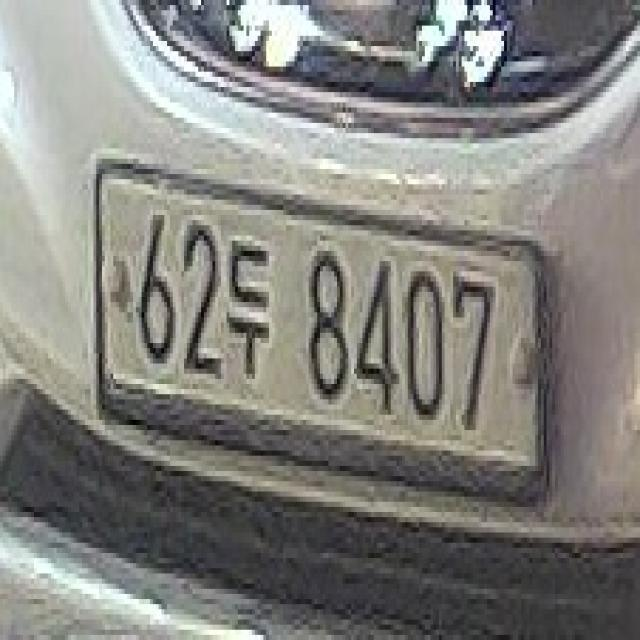0: (404, 265, 447, 427)
2: (180, 217, 222, 391)
4: (352, 256, 402, 419)
6: (130, 202, 176, 368)
7: (452, 266, 498, 446)
8: (302, 238, 350, 404)
du: (225, 232, 272, 388)
license_plate: (82, 142, 563, 537)
